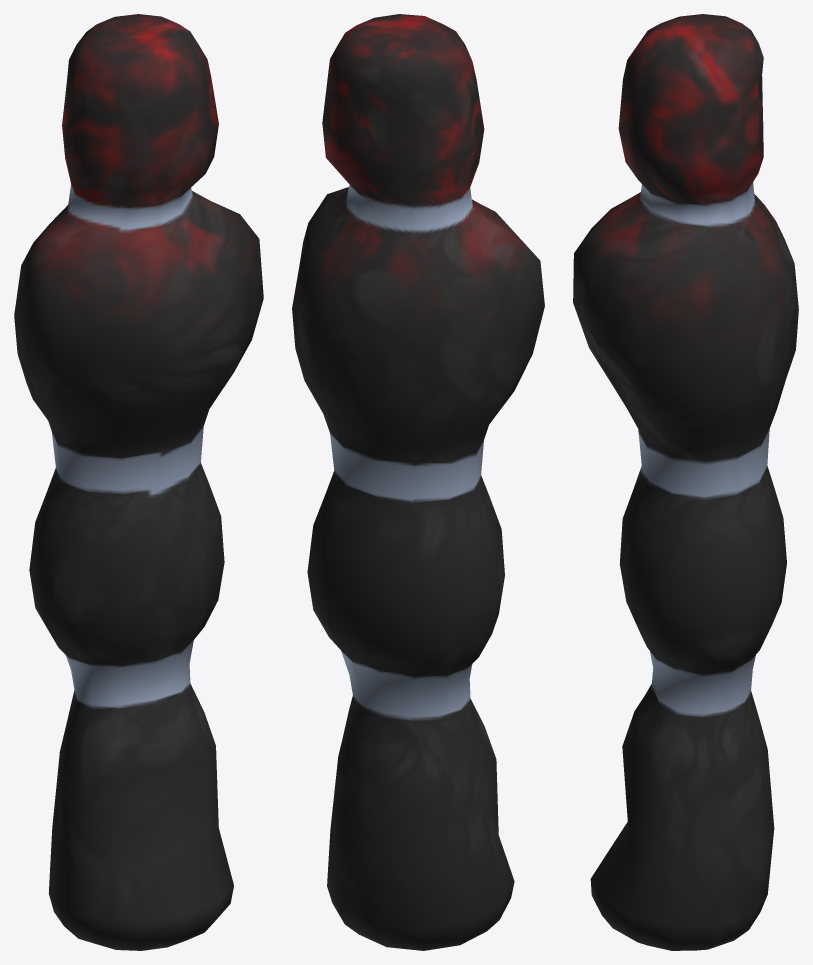
File: BodyBag.fbx
The picture shows the model from 3 angles, left to right: view 1: azimuth 30°, elevation 25°; view 2: azimuth 150°, elevation 25°; view 3: azimuth 270°, elevation 25°; orthographic projection.
Visible parts, largest first — view 1: BodyBag; view 2: BodyBag; view 3: BodyBag.
Boxes of the visible parts, <box> form: BodyBag: <box>14,14,263,950</box>; BodyBag: <box>292,14,544,950</box>; BodyBag: <box>573,14,798,950</box>.
Bounding box in the file's own units: 0.5221 × 2.09 × 0.4705.
